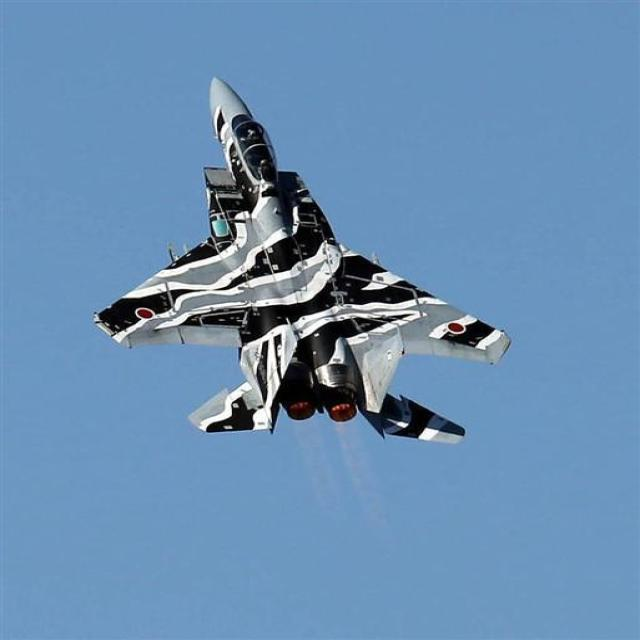MIL_Plane: (92, 77, 512, 445)
